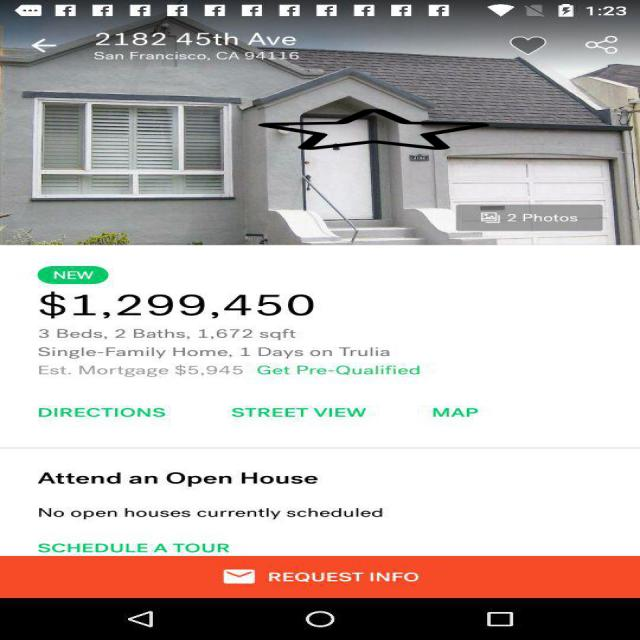forced continuity: (258, 108, 490, 151)
